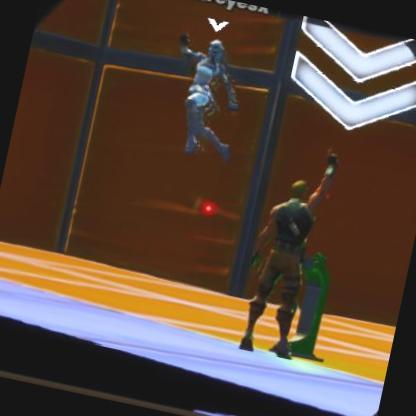person: (231, 180, 325, 361), (169, 36, 237, 148)
